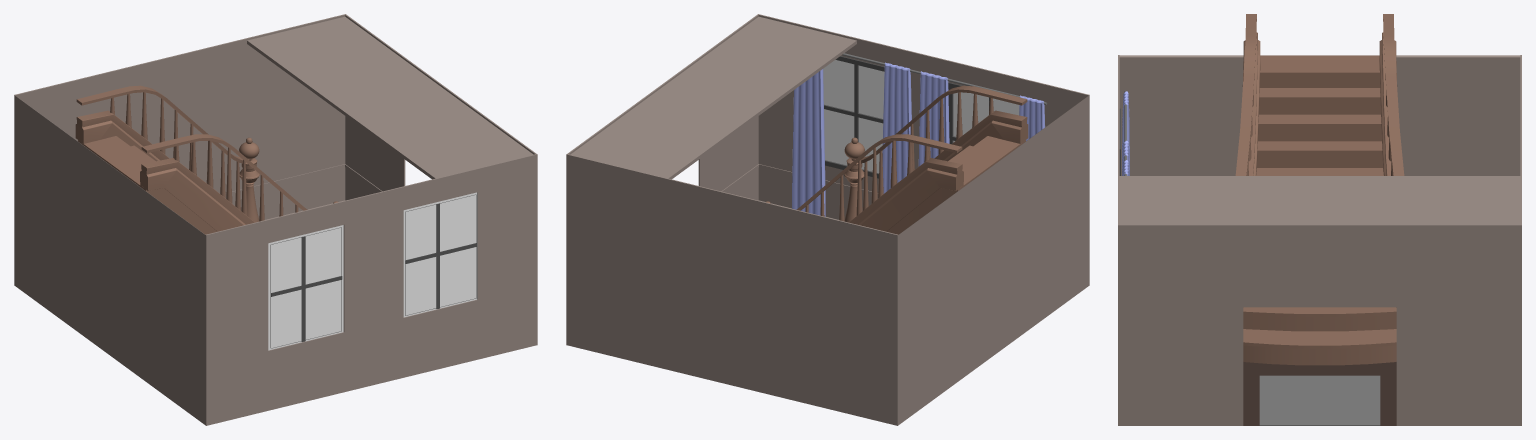
Rendered from Room25_GrandStaircase.fbx.
3 renders of one model, left to right at view 1: azimuth 30°, elevation 25°; view 2: azimuth 150°, elevation 25°; view 3: azimuth 270°, elevation 25°, orthographic. The views are drawn at different scales.
Visible parts, largest first — view 1: WallPosZ, WallPosX, WallNegZ, Roof, WindowGlass, WallPosZ4, Staircase, WallPosX11, WallOpenNegX, WallNegZ7, WallOpenNegX1, polySurface9; view 2: WallNegZ, WallPosX, Roof, WallNegZ7, Staircase, WallPosZ, WallPosX11, WindowGlass, polySurface5, WallOpenNegX, polySurface3, WallPosZ4 (+3 smaller); view 3: WallOpenNegX, Staircase, WallPosX, Roof, WallOpenNegX1, Rug, floor_Geo4, WallNegZ, WallPosZ.
Boxes of the visible parts, x1,y1,x2,y2 form: WallPosZ: (205,154,537,384); WallPosX: (14,96,205,383); WallNegZ: (14,14,345,243); Roof: (247,16,533,179); WindowGlass: (268,192,477,350); WallPosZ4: (206,303,537,425); Staircase: (75,85,338,234); WallPosX11: (14,244,205,425); WallOpenNegX: (345,14,536,191); WallNegZ7: (14,164,345,285); WallOpenNegX1: (345,165,381,200); polySurface9: (301,236,305,341); WallNegZ: (566,154,898,384); WallPosX: (898,96,1089,383); Roof: (570,16,856,179); WallNegZ7: (566,303,898,425); Staircase: (765,85,1028,234); WallPosZ: (758,14,1089,243); WallPosX11: (898,244,1089,425); WindowGlass: (823,60,1019,173); polySurface5: (792,69,825,216); WallOpenNegX: (567,14,758,191); polySurface3: (882,62,911,193); WallPosZ4: (758,164,1089,285); WallOpenNegX: (1118,224,1521,382); Staircase: (1235,14,1404,365); WallPosX: (1119,55,1520,175); Roof: (1119,176,1520,224); WallOpenNegX1: (1118,382,1521,425); Rug: (1259,375,1380,425); floor_Geo4: (1243,362,1396,425); WallNegZ: (1520,55,1521,382); WallPosZ: (1118,55,1119,382).
Bounding box in the file's own units: 800 × 532 × 802.
